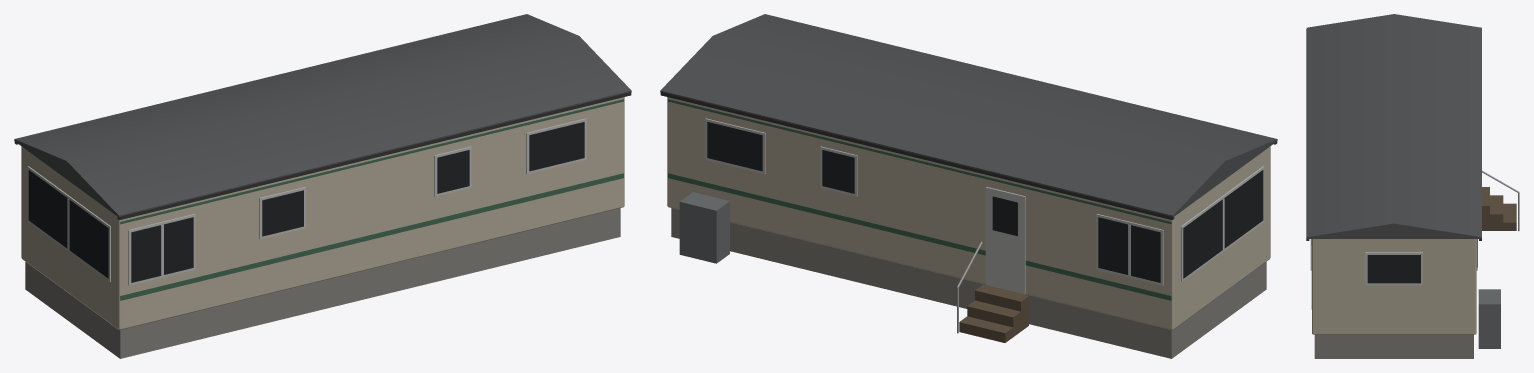
Rendered from SM_Prop_static_caravan_0.glb.
The picture shows the model from 3 angles, left to right: view 1: azimuth 30°, elevation 25°; view 2: azimuth 150°, elevation 25°; view 3: azimuth 270°, elevation 25°; orthographic projection. The views are drawn at different scales.
Visible parts, largest first — view 1: SM_Prop_static_caravan_0; view 2: SM_Prop_static_caravan_0; view 3: SM_Prop_static_caravan_0.
Part boxes in pixels (x1,y1,x2,y2): SM_Prop_static_caravan_0: (14, 14, 631, 358); SM_Prop_static_caravan_0: (660, 14, 1277, 358); SM_Prop_static_caravan_0: (1306, 14, 1519, 358).
Size of the model in its own units: 11.14 by 3.42 by 4.79.
